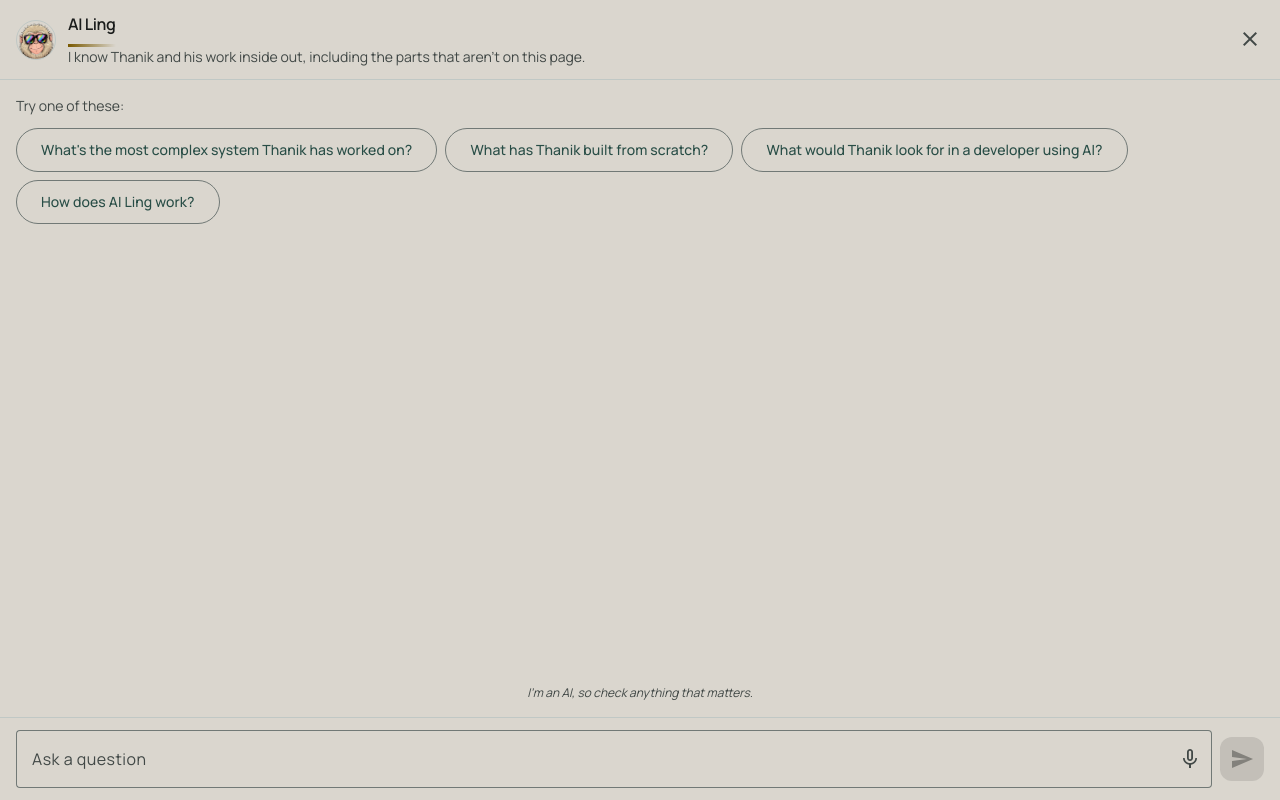
Test: ChatPanelComponent › voice input › when speech recognition is supported › shows a permission message when the microphone is blocked
Click the button named "Start voice input": (1190, 759) [1168,737,1212,781]
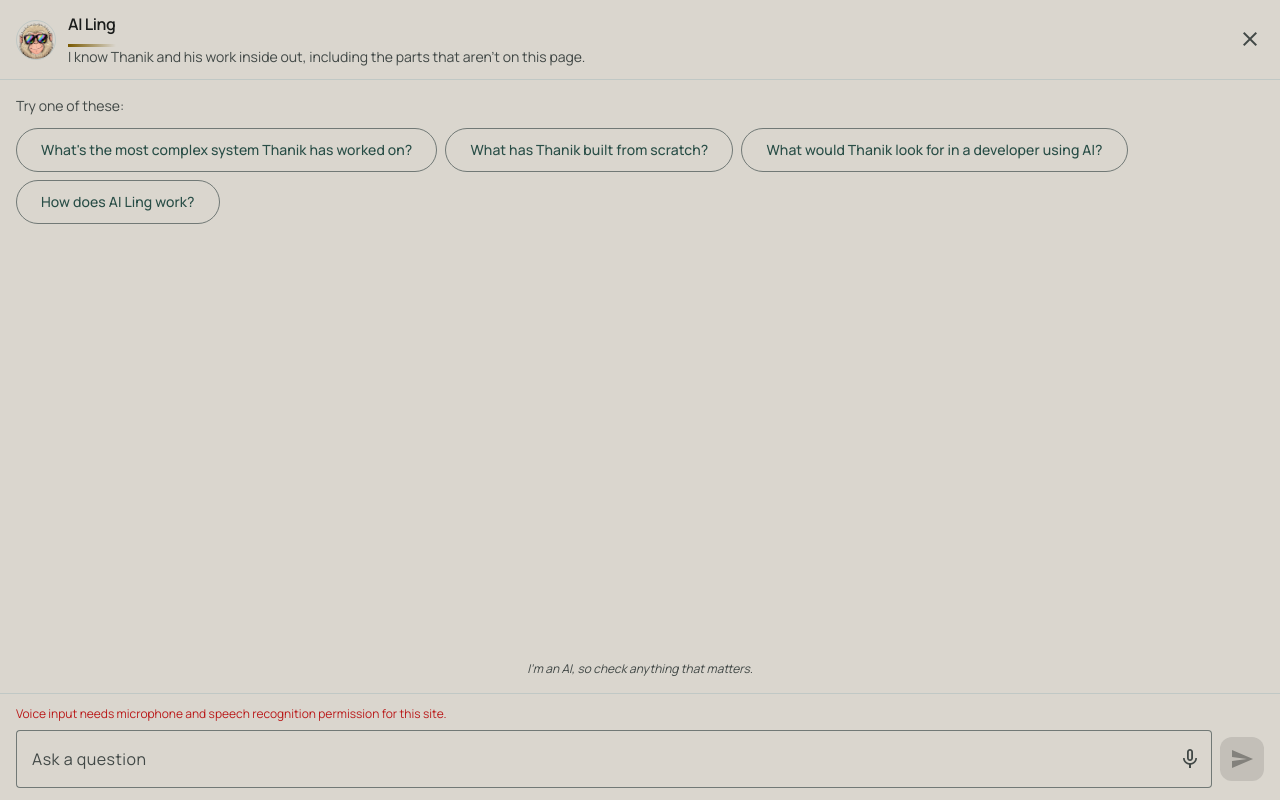
Expected: the message with class "chat-mic-error" shows "permission", [16,705,446,722]
